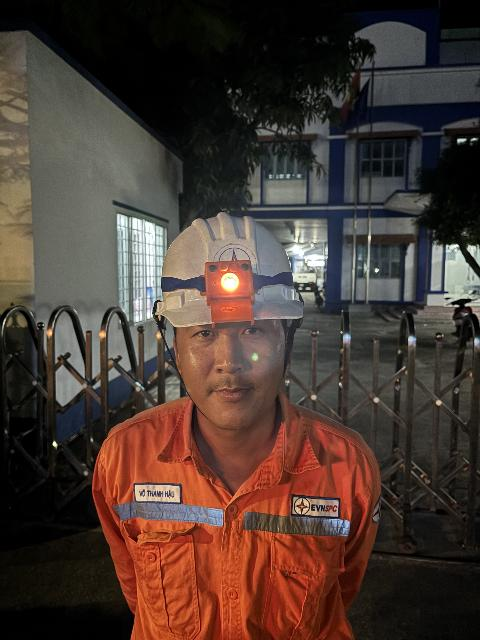helmet: (156, 203, 309, 339)
